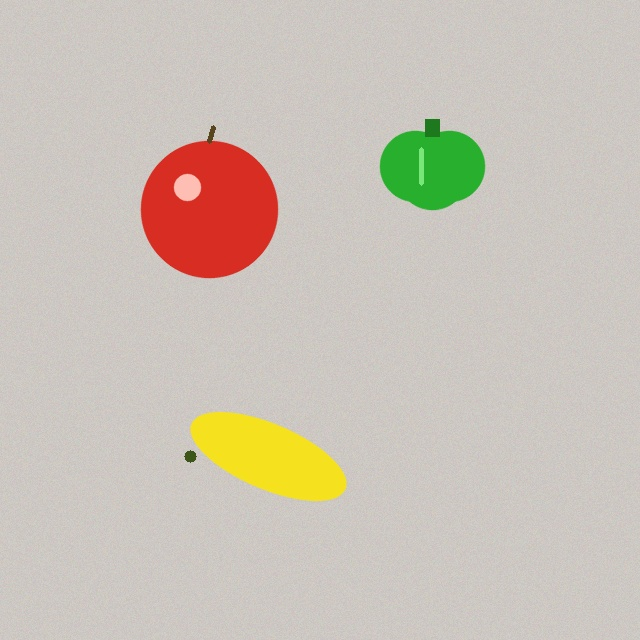Fresh apple: (141, 127, 277, 277)
Fresh banana: (181, 416, 355, 496)
Fresh bell pepper: (380, 119, 484, 209)
